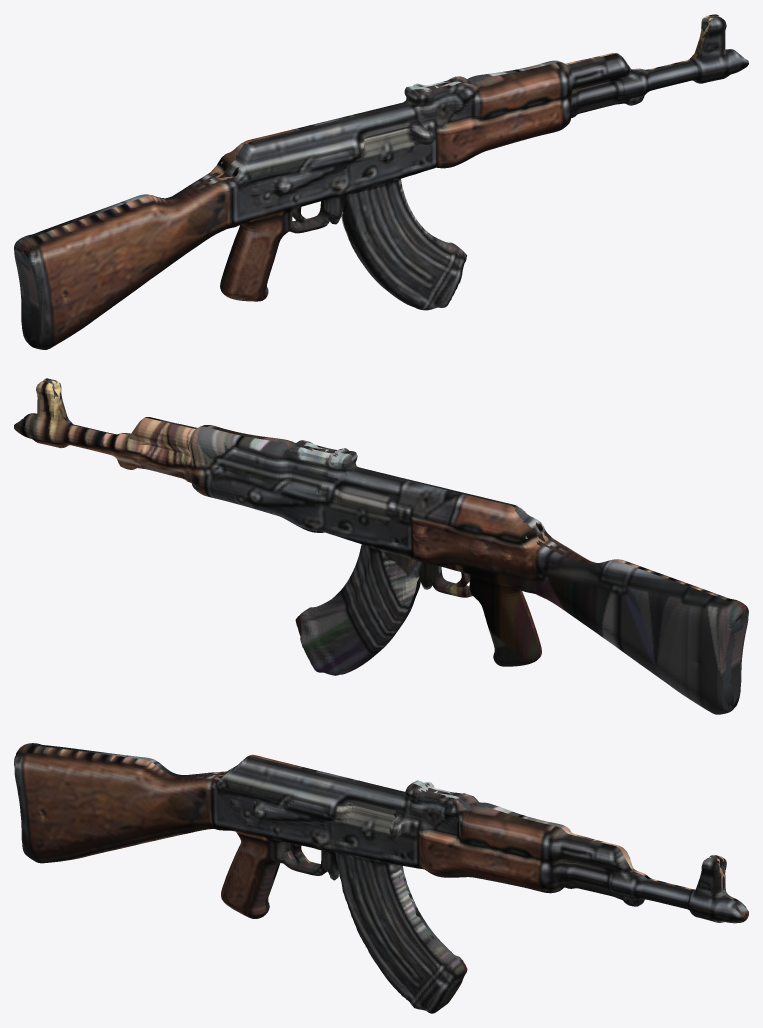
File: kestrel-harrier-two-side-candidate.glb
3 renders of one model, top to bottom at view 1: azimuth 30°, elevation 25°; view 2: azimuth 150°, elevation 25°; view 3: azimuth 330°, elevation 25°, orthographic.
Parts seen in each view (by area): view 1: geometry_0; view 2: geometry_0; view 3: geometry_0.
Part boxes in pixels (x1=…): geometry_0: x1=14, y1=14, x2=748, y2=349; geometry_0: x1=14, y1=378, x2=748, y2=714; geometry_0: x1=14, y1=743, x2=748, y2=1013.
Size of the model in its own units: 1.99 by 0.5753 by 0.1549.
Materials: 1 (1 with a texture image).
